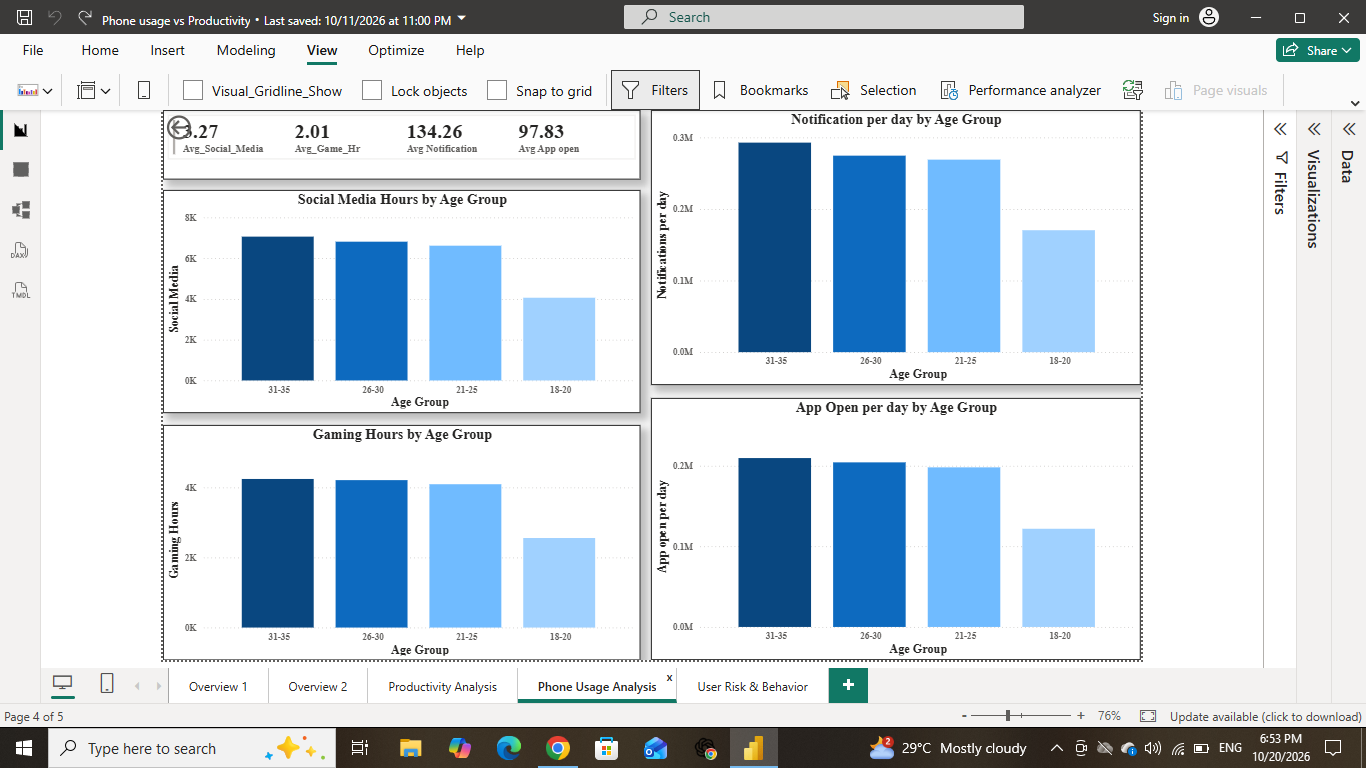

The page's visual inventory and layout, read from the dashboard file:
{"tool":"powerbi","page":{"name":"Phone Usage Analysis","canvas":[1280,720],"ordinal":3},"visuals":[{"type":"multiRowCard","fields":{"Values":["Smartphone_Usage_And_Addiction_Analysis.Avg_Social_Media","Smartphone_Usage_And_Addiction_Analysis.Avg_Game_Hr","Smartphone_Usage_And_Addiction_Analysis.Avg Notification","Smartphone_Usage_And_Addiction_Analysis.Avg App open"]},"box":[0,0,625,90.7],"z":0},{"type":"columnChart","title":"Social Media Hours by Age Group","fields":{"Category":["Smartphone_Usage_And_Addiction_Analysis.Age Group"],"Y":["Sum(Smartphone_Usage_And_Addiction_Analysis.Social Media Hours)"]},"box":[0,105.1,625,292.3],"z":1000},{"type":"columnChart","title":"Gaming Hours by Age Group","fields":{"Category":["Smartphone_Usage_And_Addiction_Analysis.Age Group"],"Y":["Sum(Smartphone_Usage_And_Addiction_Analysis.Gaming Hours)"]},"box":[0,411.8,625,308.2],"z":2000},{"type":"columnChart","title":"Notification per day by Age Group","fields":{"Category":["Smartphone_Usage_And_Addiction_Analysis.Age Group"],"Y":["Sum(Smartphone_Usage_And_Addiction_Analysis.Notify Per Day)"]},"box":[639.4,0,640.8,360],"z":3000},{"type":"columnChart","title":"App Open per day by Age Group","fields":{"Category":["Smartphone_Usage_And_Addiction_Analysis.Age Group"],"Y":["Sum(Smartphone_Usage_And_Addiction_Analysis.App Opens Per Day)"]},"box":[639.4,377.3,640.8,342.7],"z":4000},{"type":"actionButton","box":[0,0,41.8,46.1],"z":5000}]}

Visuals, with their boxes on the page's 1280x720 design canvas (x1, y1, x2, y2). These are canvas units, not pixel positions in the 1366x768 screenshot, which may show the page scaled, cropped or inside an application window:
multiRowCard - Smartphone_Usage_And_Addiction_Analysis.Avg_Social_Media x Smartphone_Usage_And_Addiction_Analysis.Avg_Game_Hr: region(0, 0, 625, 91)
"Social Media Hours by Age Group" columnChart: region(0, 105, 625, 397)
"Gaming Hours by Age Group" columnChart: region(0, 412, 625, 720)
"Notification per day by Age Group" columnChart: region(639, 0, 1280, 360)
"App Open per day by Age Group" columnChart: region(639, 377, 1280, 720)
actionButton: region(0, 0, 42, 46)
